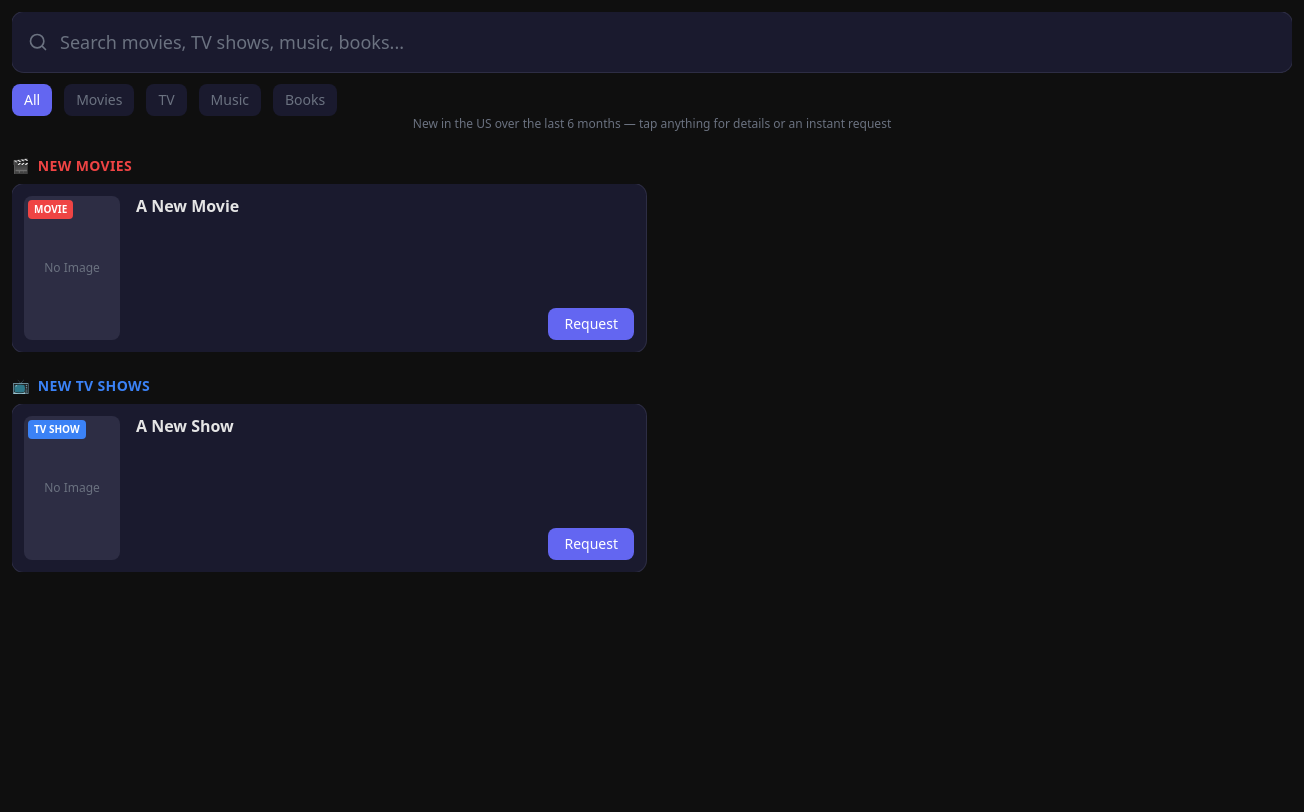
category chips filter the home feed › marks the selected chip as pressed
The image size is (1304, 812).
Expected: the heading "A New Movie" is shown, top-left (136, 195), bottom-right (239, 217)
Click the button "TV" at (166,100), box top-left (146, 84), bottom-right (187, 116)
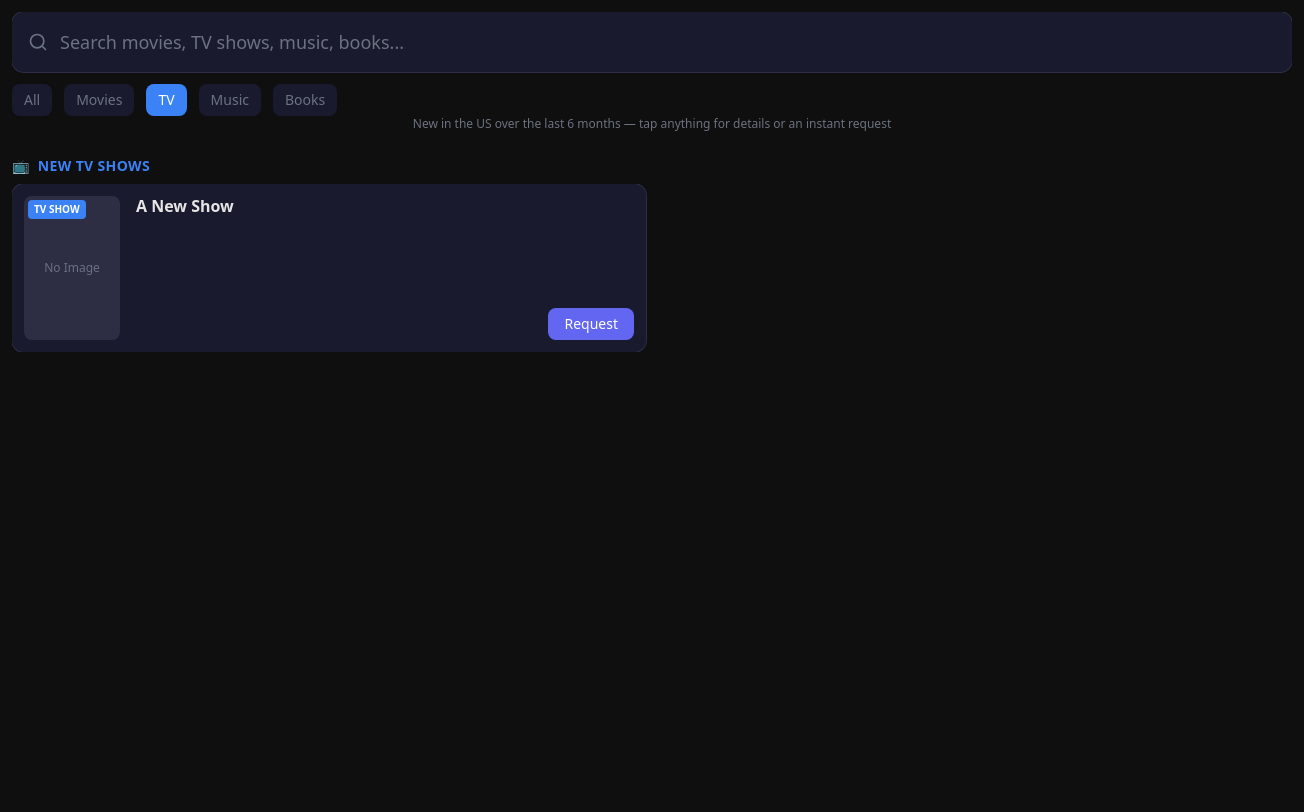
Now the button "TV" is pressed, box top-left (146, 84), bottom-right (187, 116)
Now the button "All" is not pressed, box top-left (12, 84), bottom-right (52, 116)
